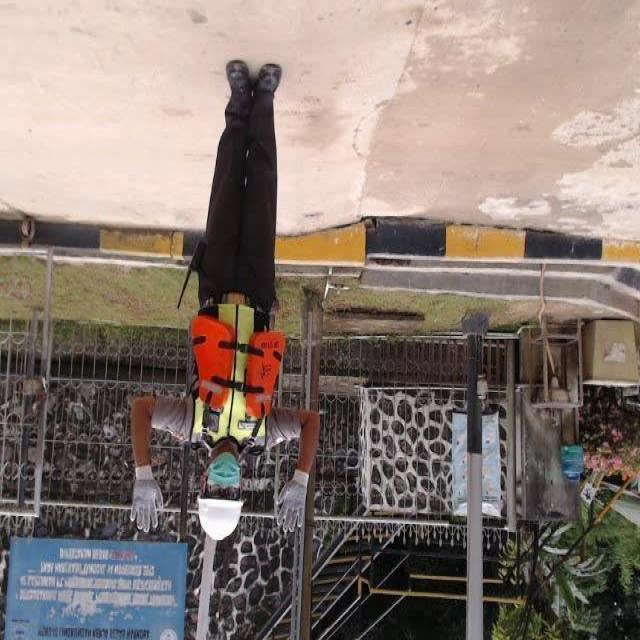helmet: (182, 494, 246, 551)
jacket: (182, 294, 288, 462)
